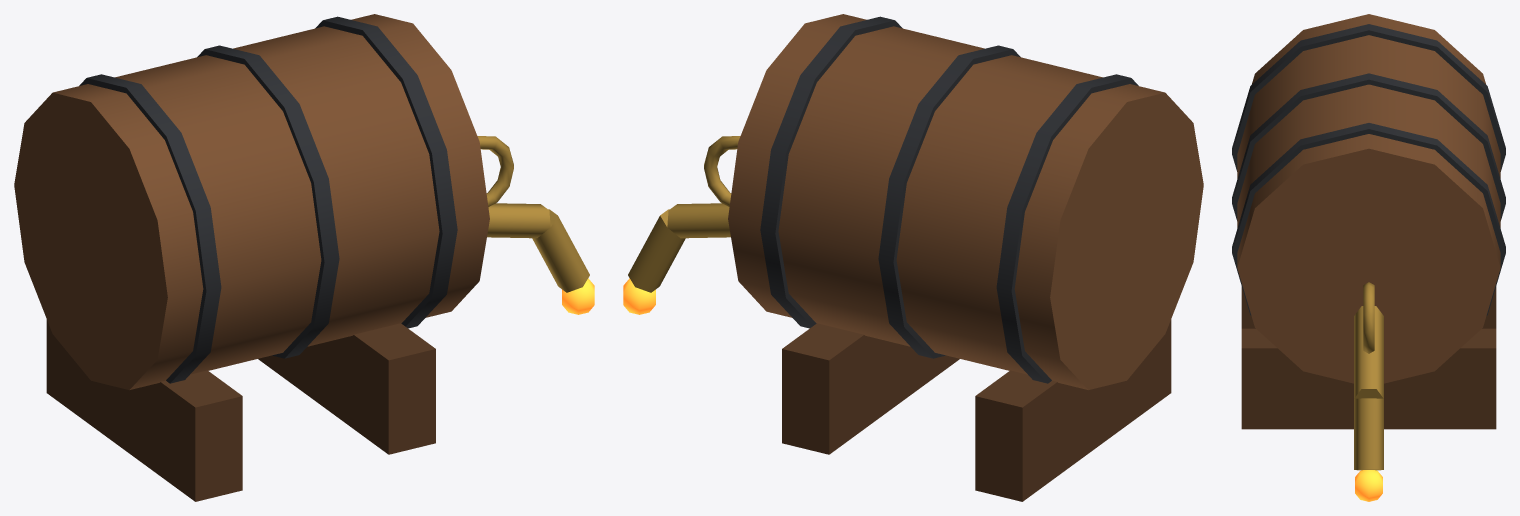
Rendered from mount-oil.glb.
The picture shows the model from 3 angles, left to right: view 1: azimuth 30°, elevation 25°; view 2: azimuth 150°, elevation 25°; view 3: azimuth 270°, elevation 25°; orthographic projection. The views are drawn at different scales.
Parts seen in each view (by area): view 1: Mesh_Cask, Mesh_CradleA, Mesh_CradleF, Mesh_HoopM, Mesh_HoopF, Mesh_HoopA, Mesh_Spout, Mesh_Pipe, Mesh_Valve, Mesh_Drip; view 2: Mesh_Cask, Mesh_CradleA, Mesh_CradleF, Mesh_HoopM, Mesh_HoopF, Mesh_HoopA, Mesh_Spout, Mesh_Pipe, Mesh_Valve, Mesh_Drip; view 3: Mesh_Cask, Mesh_CradleF, Mesh_HoopF, Mesh_HoopA, Mesh_HoopM, Mesh_Pipe, Mesh_Spout, Mesh_Valve, Mesh_Drip, Mesh_CradleA.
Boxes of the visible parts, bbox=[...] form: Mesh_Cask: bbox=[14, 14, 489, 389]; Mesh_CradleA: bbox=[46, 319, 242, 501]; Mesh_CradleF: bbox=[258, 323, 435, 454]; Mesh_HoopM: bbox=[197, 45, 339, 358]; Mesh_HoopF: bbox=[315, 16, 457, 328]; Mesh_HoopA: bbox=[79, 74, 221, 383]; Mesh_Spout: bbox=[532, 209, 589, 292]; Mesh_Pipe: bbox=[487, 203, 550, 238]; Mesh_Valve: bbox=[477, 136, 513, 206]; Mesh_Drip: bbox=[562, 278, 594, 314]; Mesh_Cask: bbox=[728, 14, 1203, 389]; Mesh_CradleA: bbox=[975, 319, 1171, 501]; Mesh_CradleF: bbox=[782, 323, 959, 454]; Mesh_HoopM: bbox=[878, 45, 1020, 358]; Mesh_HoopF: bbox=[760, 16, 902, 328]; Mesh_HoopA: bbox=[996, 74, 1138, 383]; Mesh_Spout: bbox=[628, 209, 685, 292]; Mesh_Pipe: bbox=[667, 203, 730, 238]; Mesh_Valve: bbox=[704, 136, 740, 206]; Mesh_Drip: bbox=[623, 278, 655, 314]; Mesh_Cask: bbox=[1237, 14, 1500, 383]; Mesh_CradleF: bbox=[1241, 328, 1496, 429]; Mesh_HoopF: bbox=[1232, 123, 1505, 315]; Mesh_HoopA: bbox=[1232, 24, 1505, 171]; Mesh_HoopM: bbox=[1232, 73, 1505, 220]; Mesh_Pipe: bbox=[1354, 306, 1383, 398]; Mesh_Spout: bbox=[1354, 398, 1383, 470]; Mesh_Valve: bbox=[1363, 282, 1374, 353]; Mesh_Drip: bbox=[1355, 470, 1382, 501]; Mesh_CradleA: bbox=[1241, 286, 1496, 328].
Bounding box in the file's own units: 2.35 × 1.59 × 1.29.
